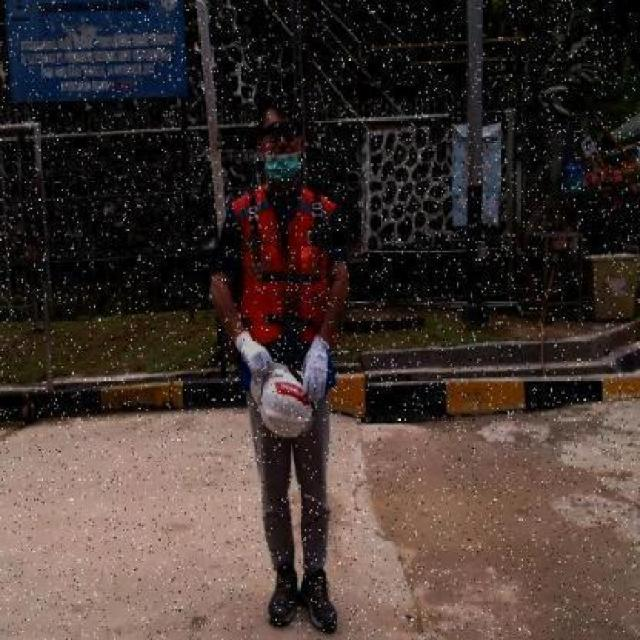Boots: (300, 570, 338, 633), (267, 565, 298, 627)
Gloves: (234, 333, 277, 382), (302, 336, 330, 404)
Helmet: (248, 354, 320, 444)
Mask: (239, 248, 330, 346)
